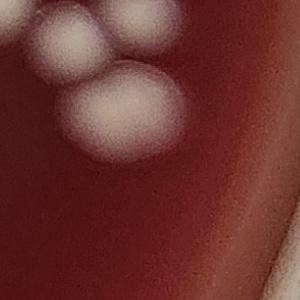colony: (47, 57, 196, 169), (15, 0, 120, 92), (79, 0, 195, 69), (0, 0, 44, 55)
